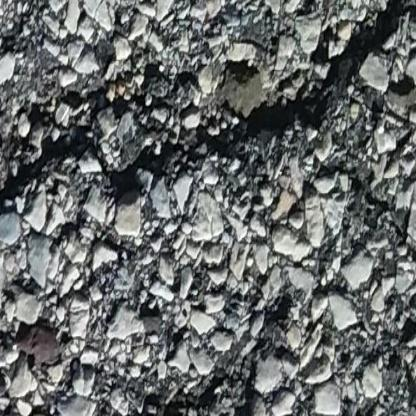Cracks: (0, 0, 416, 247), (118, 297, 291, 416)
